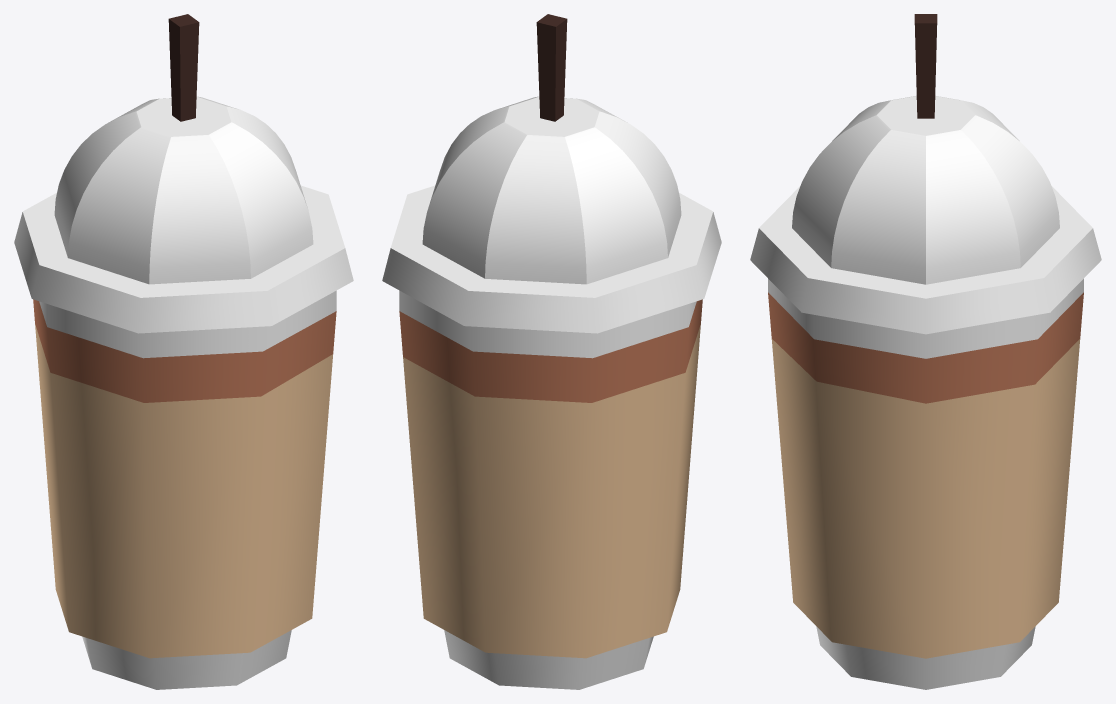
The model's file is frappe.fbx.
The picture shows the model from 3 angles, left to right: view 1: azimuth 30°, elevation 25°; view 2: azimuth 150°, elevation 25°; view 3: azimuth 270°, elevation 25°; orthographic projection.
Parts seen in each view (by area): view 1: frappe, straw; view 2: frappe, straw; view 3: frappe, straw.
Part boxes in pixels (<box>): frappe: <box>14,96,353,689</box>; straw: <box>168,14,199,121</box>; frappe: <box>382,96,721,689</box>; straw: <box>536,14,567,121</box>; frappe: <box>750,96,1101,689</box>; straw: <box>914,14,937,118</box>.
Bounding box in the file's own units: 2.54 × 4.99 × 2.54.
